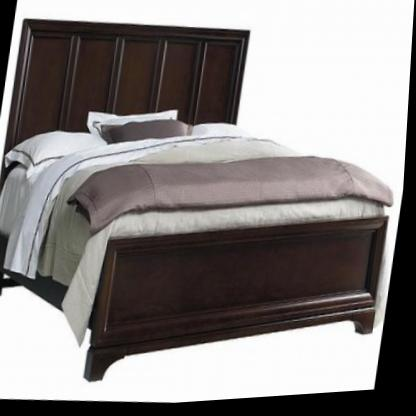Bed: (0, 0, 415, 412)
